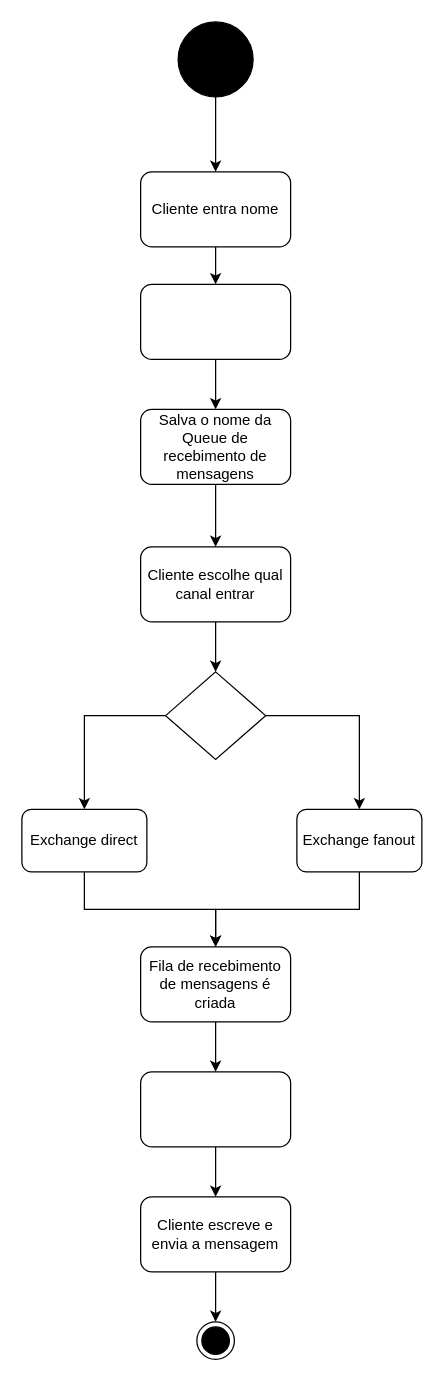
Image size: 444x1381. Some labels were removed from this diagram. The centre of each missing label's shape, as x and y in pixels:
Cliente loga no sistema com sucesso: the point at 215,321
direta ou grupo?: the point at 215,715
Fila de encaminhamento de mensagens é criada: the point at 215,1109
